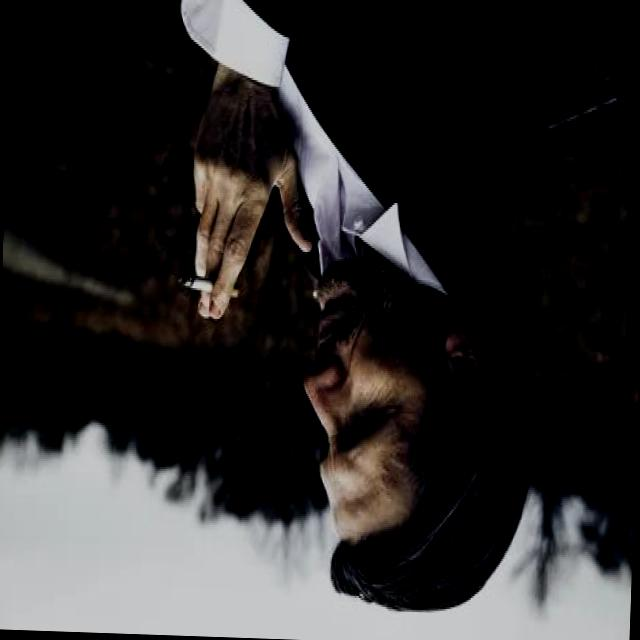cigarette: (170, 262, 248, 310)
